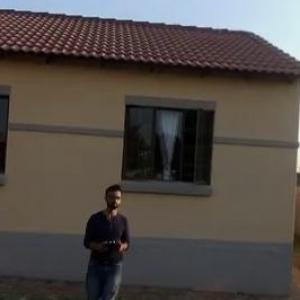follow: (82, 181, 144, 299)
